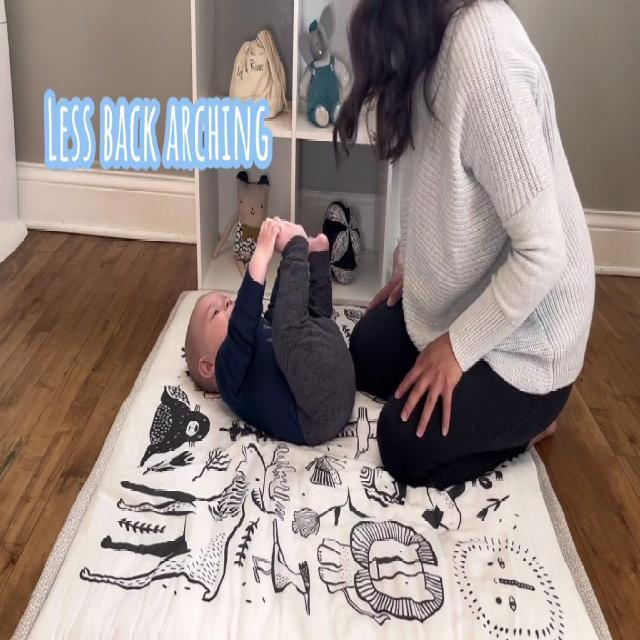baby: (183, 207, 358, 455)
